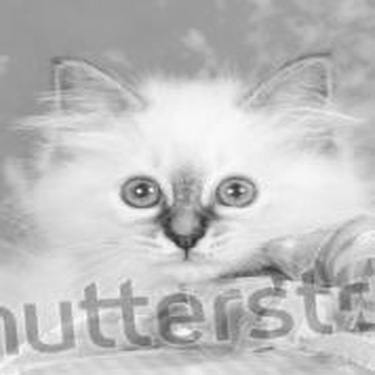cat: (2, 48, 348, 300)
